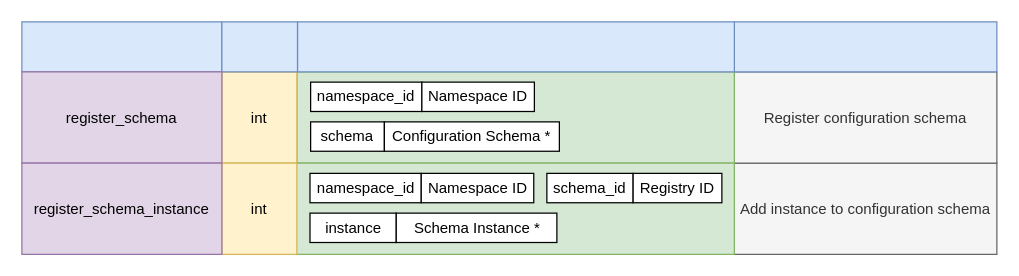
This 1019x276 diagram has some shape labels left out. The shapes that lost their labels are listed below. From the top down, each one's centre as x and y in pixels, then its label:
the point at 121,46: Name
the point at 259,46: Returns
the point at 515,46: Parameters
the point at 865,46: Description
